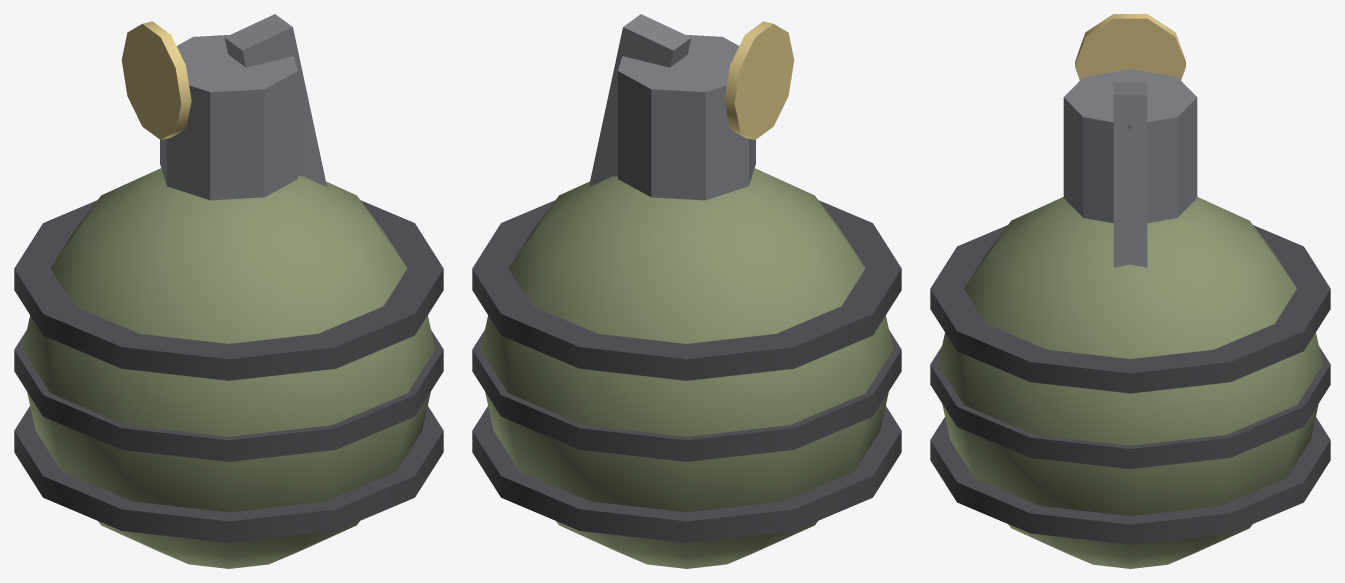
Rendered from frag.glb.
3 renders of one model, left to right at view 1: azimuth 30°, elevation 25°; view 2: azimuth 150°, elevation 25°; view 3: azimuth 270°, elevation 25°, orthographic. The views are drawn at different scales.
Parts seen in each view (by area): view 1: nade_frag; view 2: nade_frag; view 3: nade_frag.
Boxes of the visible parts, <box> form: nade_frag: <box>14,14,443,568</box>; nade_frag: <box>472,14,901,568</box>; nade_frag: <box>930,14,1330,568</box>.
Size of what is drawn, in the model's own units: 0.072 by 0.0995 by 0.072.
